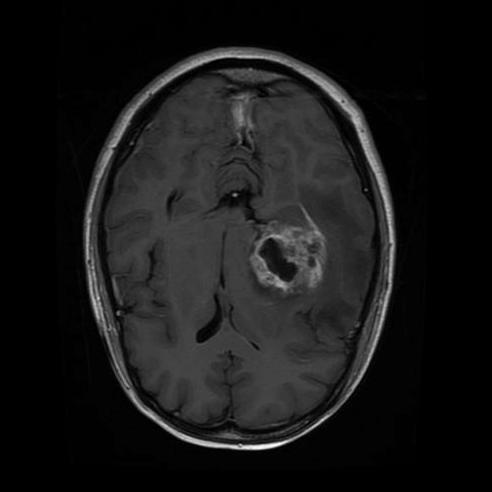Tumour-Glioma: (250, 217, 342, 303)
